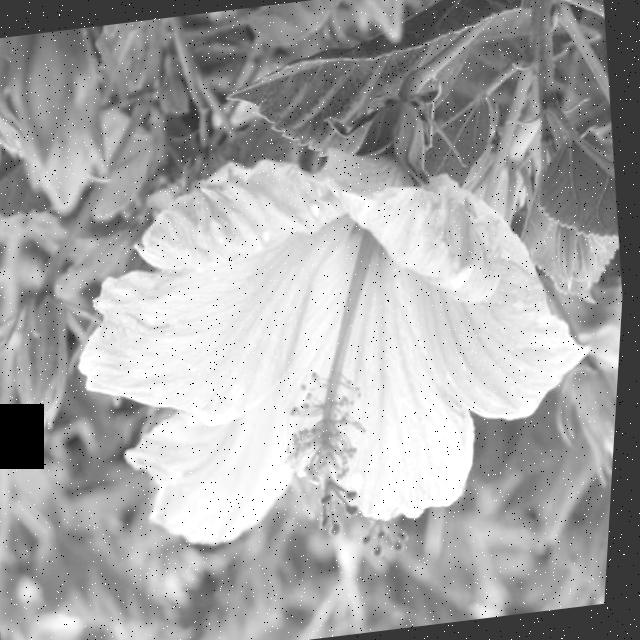hibiscus: (35, 58, 634, 618)
